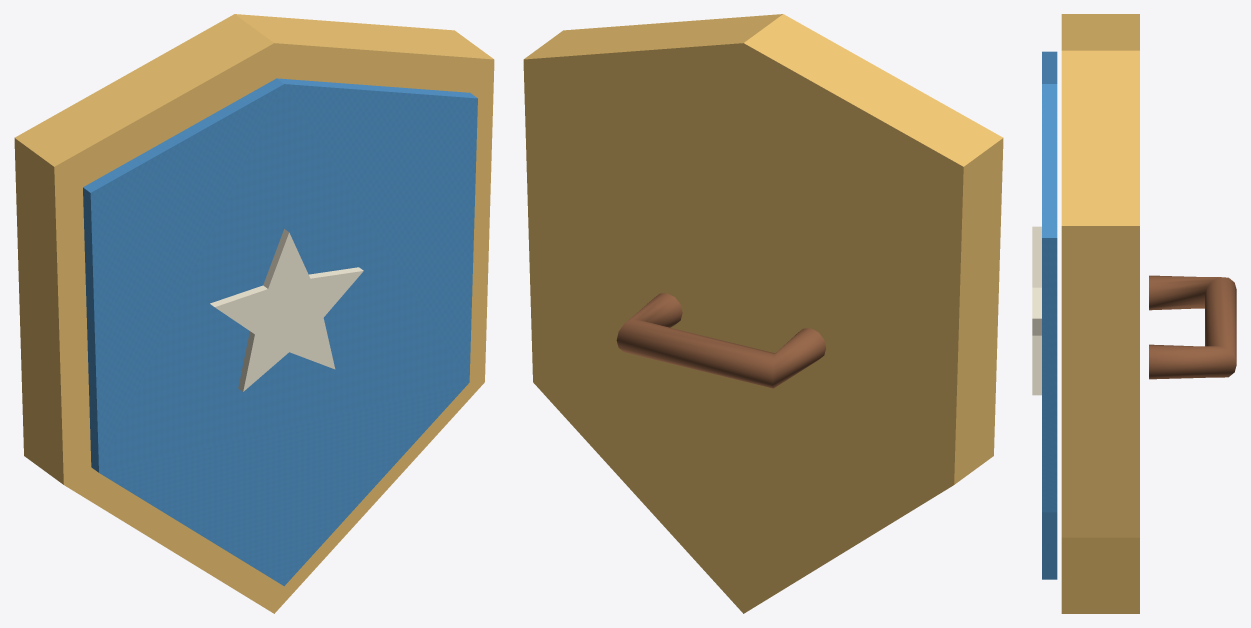
The model's file is SHIELD.glb.
3 renders of one model, left to right at view 1: azimuth 30°, elevation 25°; view 2: azimuth 150°, elevation 25°; view 3: azimuth 270°, elevation 25°, orthographic.
Parts seen in each view (by area): view 1: SHIELD; view 2: SHIELD; view 3: SHIELD.
Boxes of the visible parts, x1=… form: SHIELD: x1=14, y1=14, x2=494, y2=613; SHIELD: x1=523, y1=14, x2=1003, y2=613; SHIELD: x1=1032, y1=14, x2=1236, y2=613.
Size of the model in its own units: 0.46 by 0.57 by 0.1876.
Materials: 4 (1 with a texture image).
